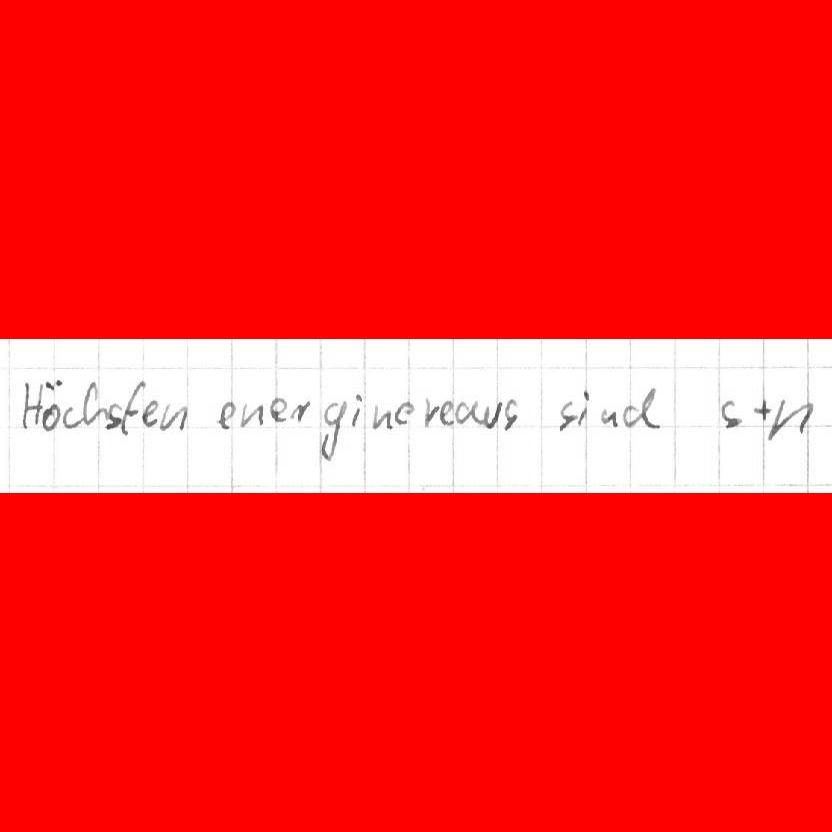Char: (767, 398, 815, 441), (621, 386, 664, 431), (316, 399, 345, 465), (122, 379, 143, 437), (41, 375, 61, 432), (20, 378, 39, 431), (84, 379, 102, 428), (158, 402, 185, 434), (423, 398, 452, 427), (454, 398, 482, 428), (237, 399, 263, 429), (719, 397, 743, 429), (554, 397, 575, 431), (481, 398, 503, 430), (499, 395, 519, 430), (215, 398, 236, 429), (393, 399, 415, 427), (369, 403, 390, 432), (139, 397, 159, 427), (104, 399, 122, 432), (578, 388, 593, 427), (750, 398, 773, 423), (290, 397, 311, 422), (269, 395, 288, 422), (350, 391, 363, 428), (62, 405, 81, 429), (601, 407, 618, 426)
